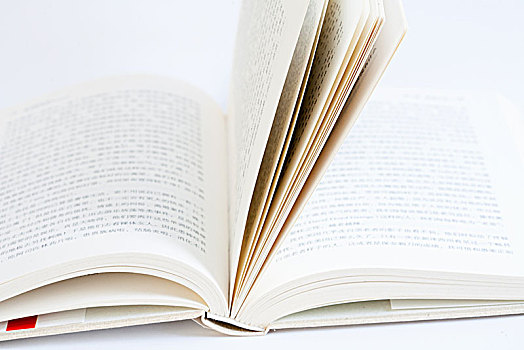book: (0, 1, 524, 340)
